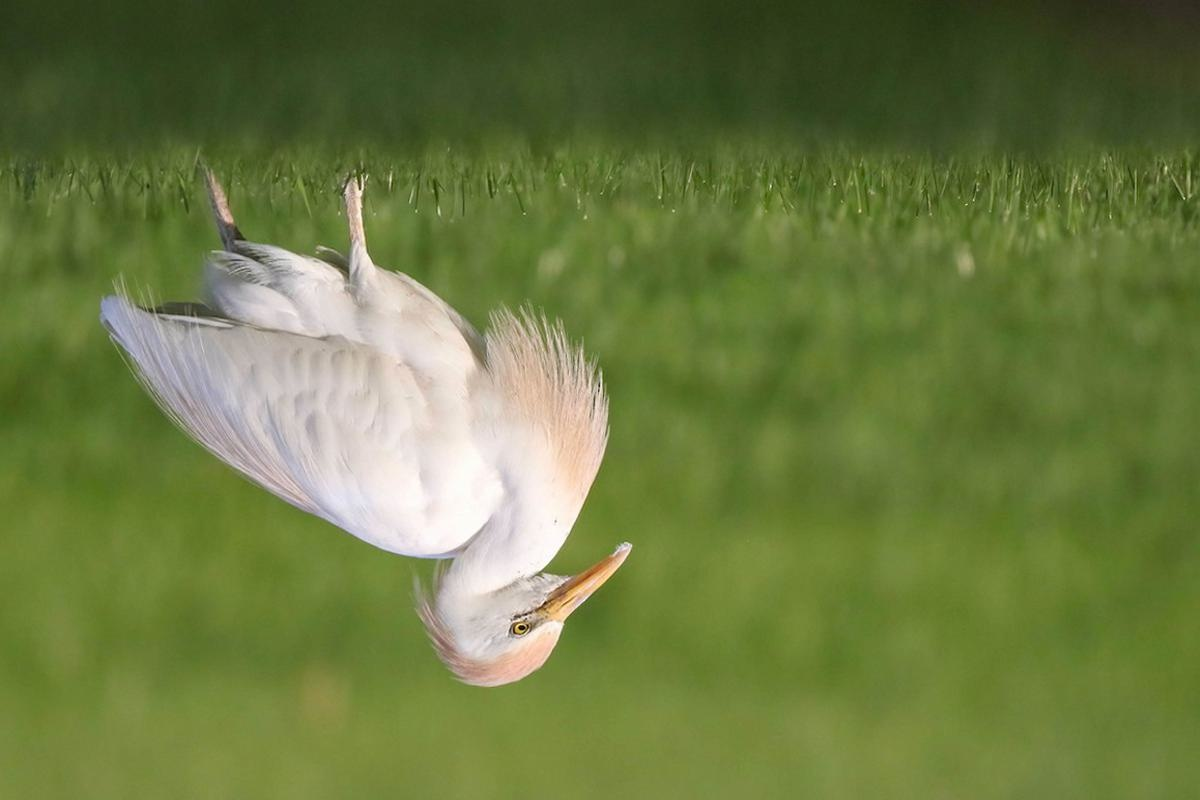egret: (91, 196, 634, 691)
